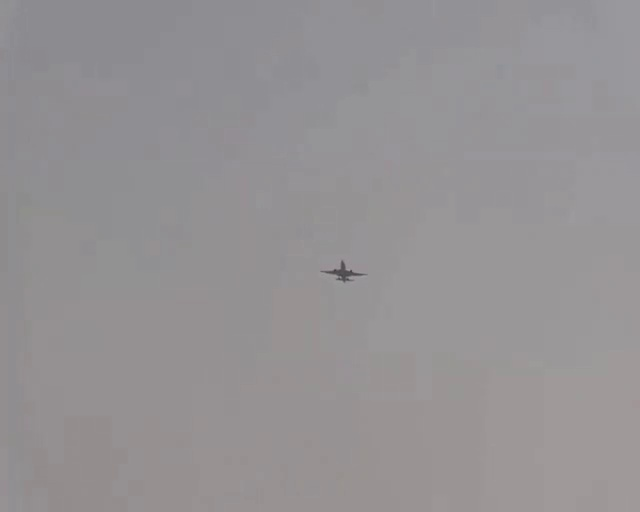AIRPLANE: (320, 259, 368, 282)
